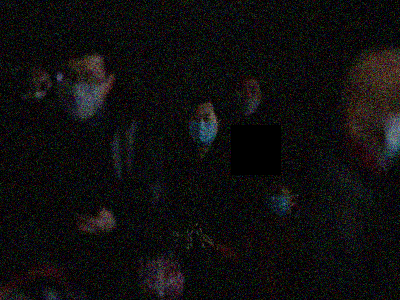with_mask: (57, 67, 107, 122), (188, 111, 218, 146), (233, 83, 262, 117), (268, 187, 290, 216)
